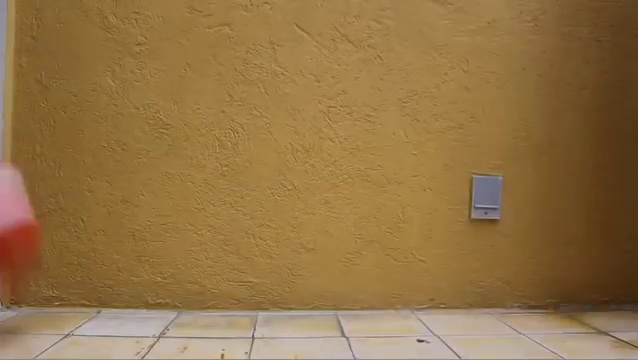ball: (1, 164, 43, 277)
